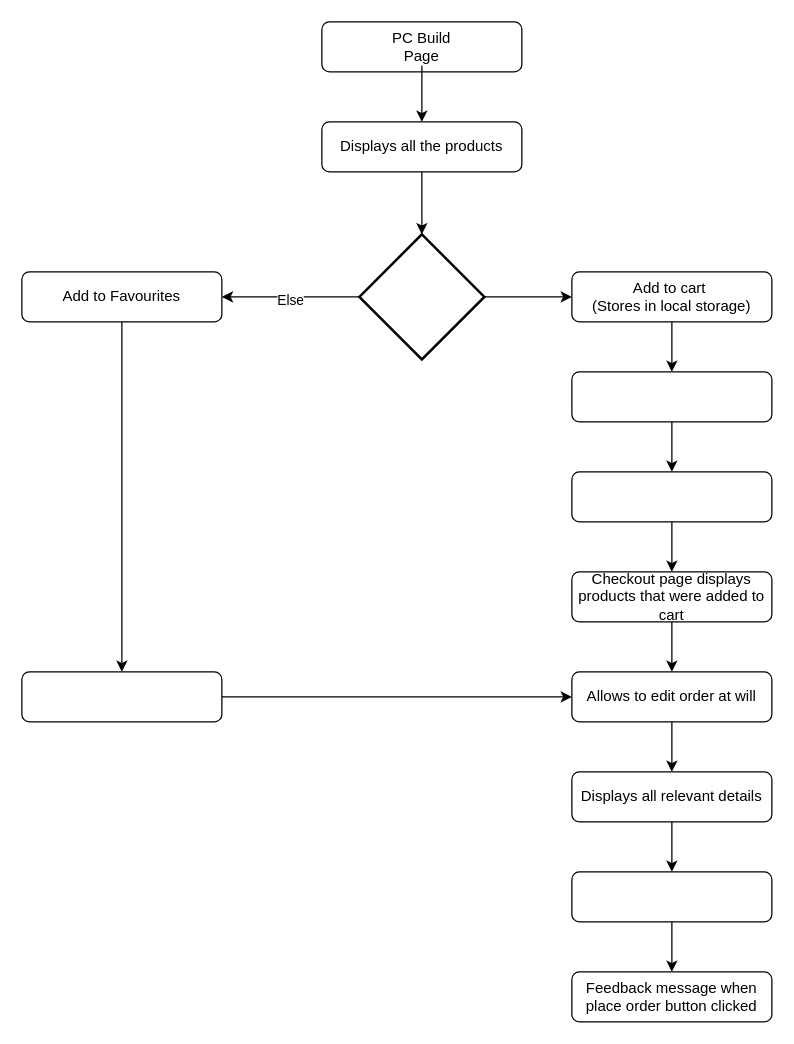
This 794x1044 diagram has some shape labels left out. Here are the shapes that lost their labels. From the top down, the centre of each, then its label:
At point 671,396: "Adjust the quantity in the cart tab section".
At point 671,496: "Click Checkout Page".
At point 121,696: "Adds Favourites to checkout page (local storage)".
At point 671,896: "Fill the details correctly".
